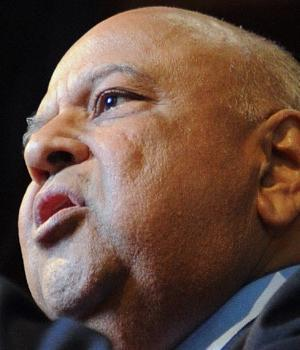Sober: (17, 21, 249, 304)
